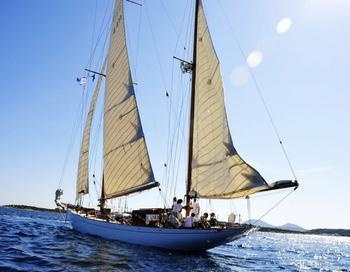fanchuan: (53, 1, 301, 251)
